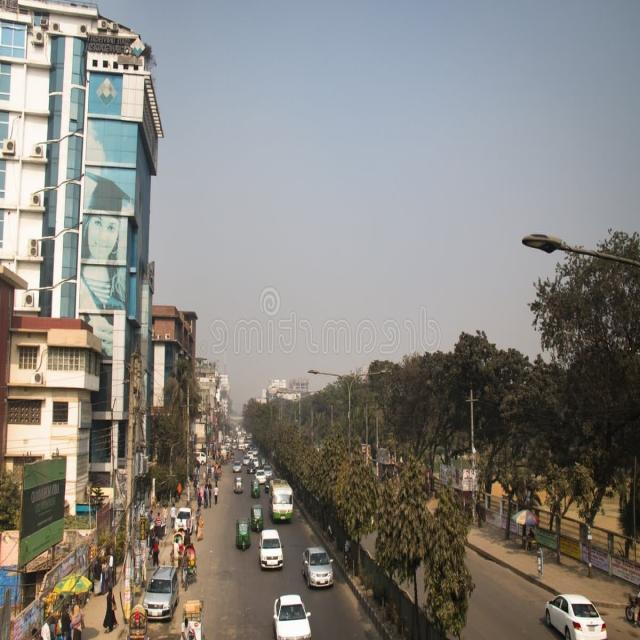Bus: (268, 475, 296, 526)
CNG: (234, 518, 253, 558), (250, 504, 267, 533), (234, 473, 244, 499), (250, 482, 263, 500)
Car: (537, 593, 610, 640), (141, 562, 181, 627), (268, 595, 315, 640), (301, 546, 337, 591), (259, 530, 288, 572)
